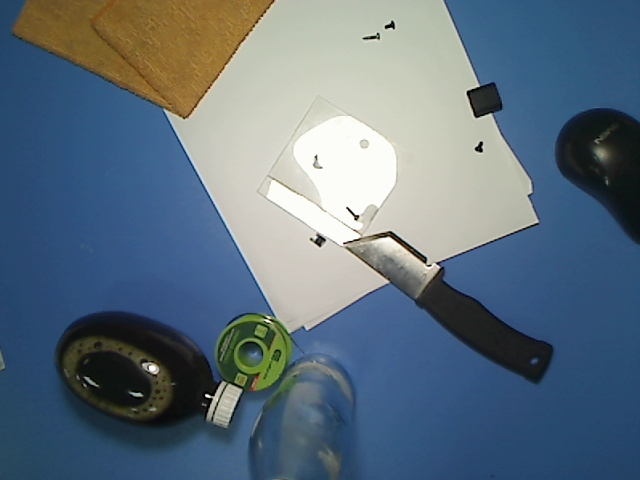plast_bottle: (51, 303, 245, 438)
